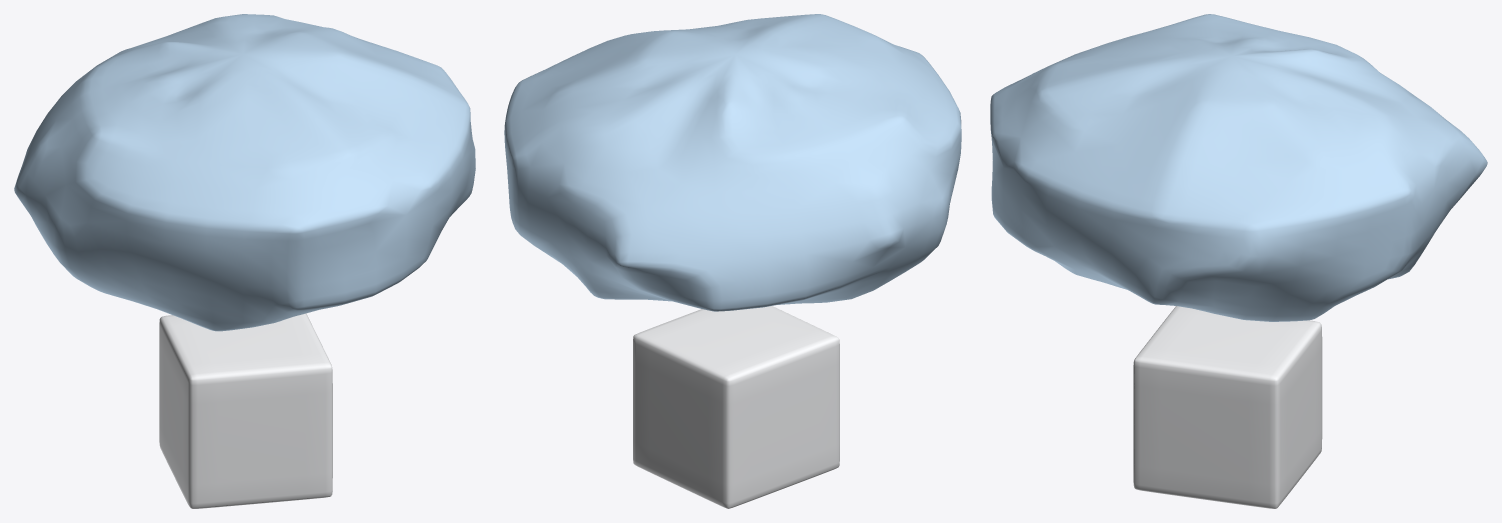
File: PROP_Mushroom_v2.glb
3 views of the same model, side by side, from view 1: azimuth 30°, elevation 25°; view 2: azimuth 150°, elevation 25°; view 3: azimuth 270°, elevation 25° (orthographic).
Visible parts, largest first — view 1: PROP_Mushroom_v2; view 2: PROP_Mushroom_v2; view 3: PROP_Mushroom_v2.
Boxes of the visible parts, x1,y1,x2,y2 form: PROP_Mushroom_v2: (14, 14, 475, 508); PROP_Mushroom_v2: (504, 14, 961, 508); PROP_Mushroom_v2: (990, 14, 1487, 508).
Bounding box in the file's own units: 3.03 × 2.91 × 3.16.
